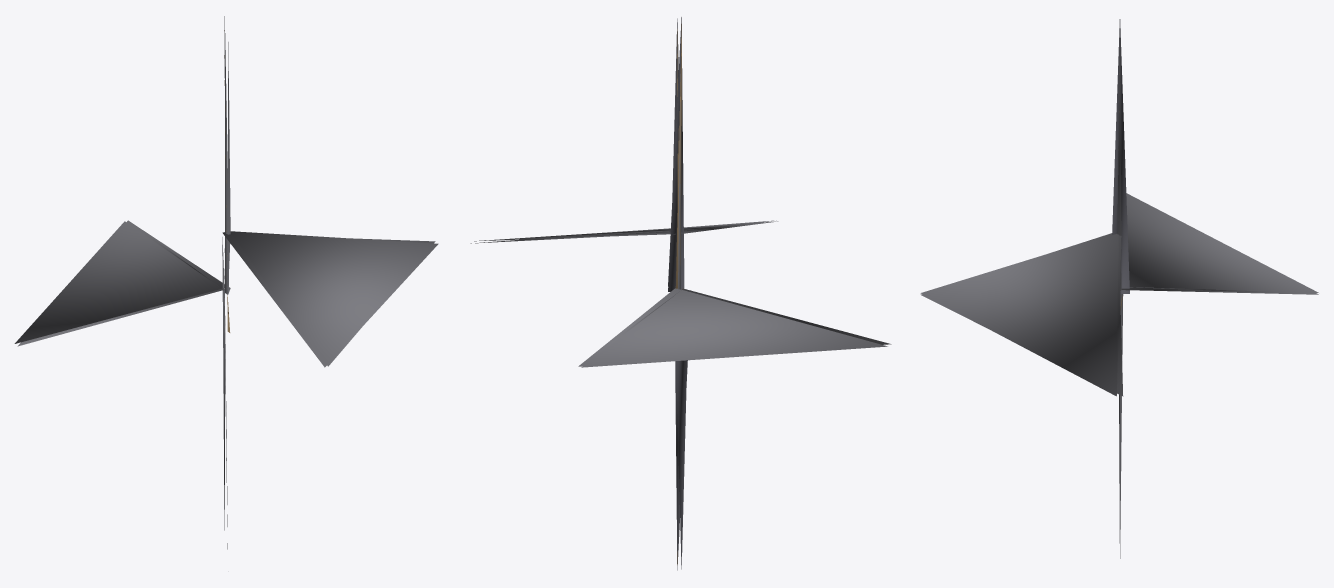
File: equip_weapon_black_longsword.glb
The picture shows the model from 3 angles, left to right: view 1: azimuth 30°, elevation 25°; view 2: azimuth 150°, elevation 25°; view 3: azimuth 270°, elevation 25°; orthographic projection.
Visible parts, largest first — view 1: equip_weapon_black_longsword; view 2: equip_weapon_black_longsword; view 3: equip_weapon_black_longsword.
Boxes of the visible parts, left/top/right/bottom form: equip_weapon_black_longsword: left=14, top=16, right=438, bottom=549; equip_weapon_black_longsword: left=470, top=17, right=891, bottom=570; equip_weapon_black_longsword: left=920, top=19, right=1318, bottom=558.
Bounding box in the file's own units: 1.8 × 2.28 × 1.48.
